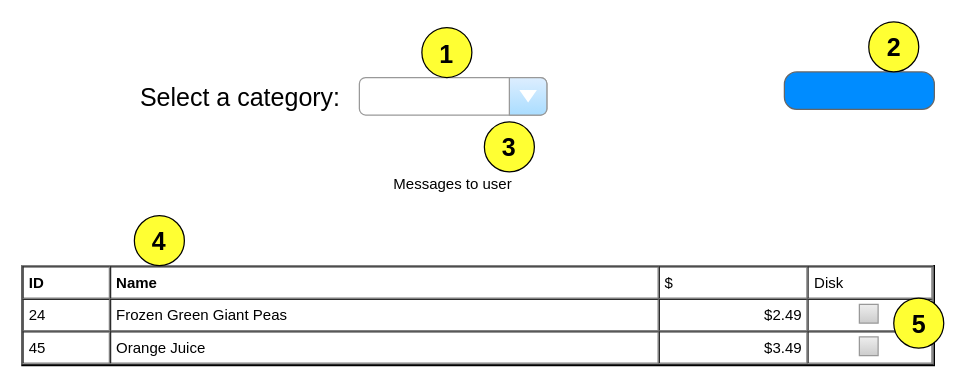
The diagram is 966 pixels wide and 388 high, and some of its shapes have lost their labels. The centre of each missing label's shape, as x and y in pixels:
"Fetch" belongs at [858,90].
"Frozen" belongs at [452,95].
